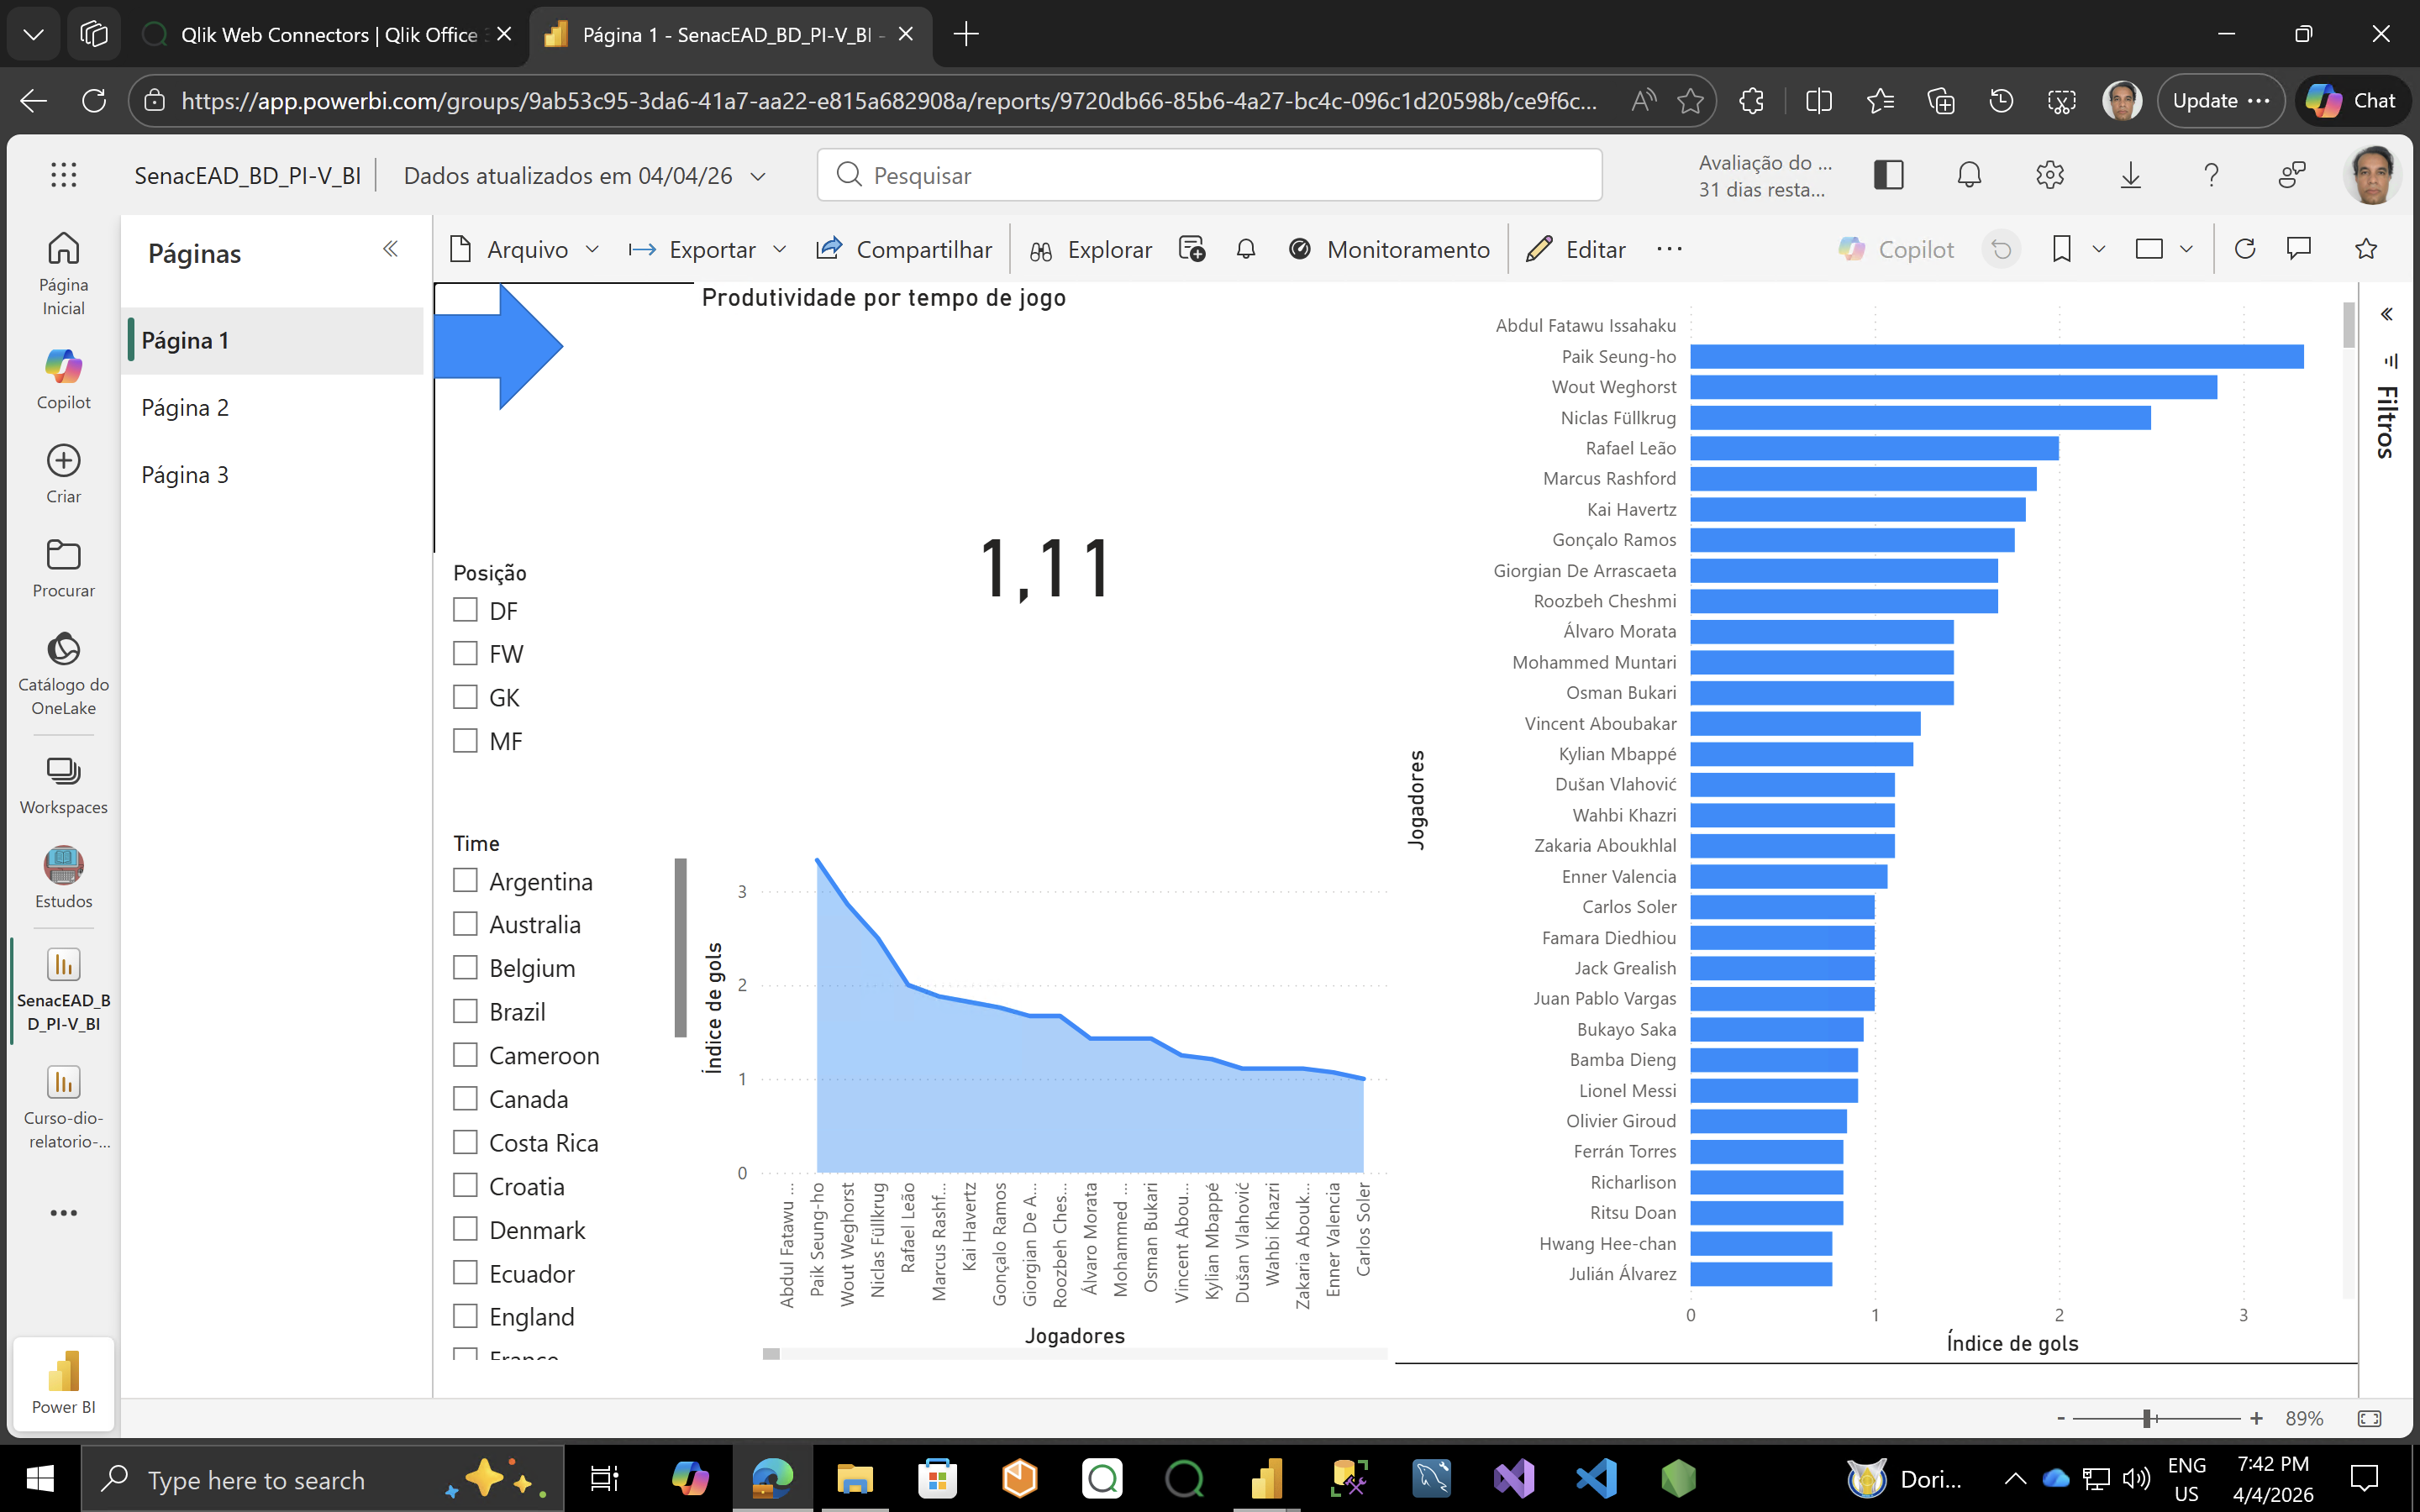

The dashboard page shown, as its layout file describes it:
{"tool":"powerbi","page":{"name":"Página 1","canvas":[1280,720],"ordinal":0},"visuals":[{"type":"clusteredBarChart","title":"Produtividade por tempo de jogo","fields":{"Category":["player_stats.player"],"Y":["Sum(player_stats.produtividade_por_tempo_de_jogo)"]},"box":[640,0,642.5,719],"z":0},{"type":"kpi","title":"Produtividade por tempo de jogo","fields":{"TrendLine":["player_stats.player"],"Indicator":["Sum(player_stats.produtividade_por_tempo_de_jogo)"]},"box":[173.4,0,467.9,359.5],"z":1000},{"type":"slicer","title":"Posição","fields":{"Values":["player_stats.position"]},"box":[0,0,173.4,359.5],"z":2000},{"type":"slicer","fields":{"Values":["player_stats.team"]},"box":[0,359.5,173.4,362.1],"z":3000},{"type":"stackedAreaChart","title":"Produtividade por tempo de jogo","fields":{"Category":["player_stats.player"],"Y":["Sum(player_stats.produtividade_por_tempo_de_jogo)"]},"box":[173.4,359.5,466.6,362.1],"z":4000}]}

Visuals, with their boxes on the page's 1280x720 design canvas (x1, y1, x2, y2). These are canvas units, not pixel positions in the 2420x1512 screenshot, which may show the page scaled, cropped or inside an application window:
"Produtividade por tempo de jogo" clusteredBarChart: (640,0,1282,719)
"Produtividade por tempo de jogo" kpi: (173,0,641,360)
"Posição" slicer: (0,0,173,360)
slicer - player_stats.team: (0,360,173,722)
"Produtividade por tempo de jogo" stackedAreaChart: (173,360,640,722)
